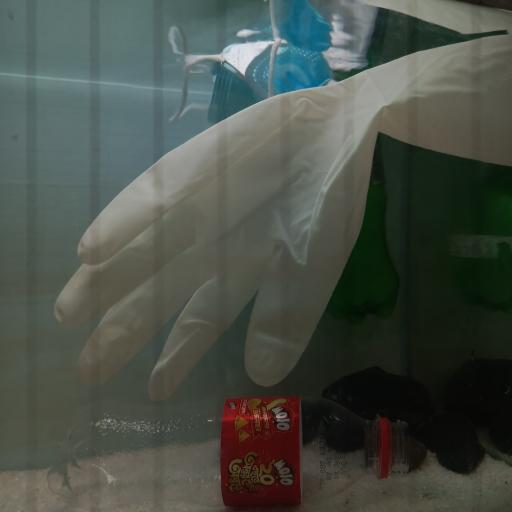glove: (54, 35, 512, 400)
mask: (168, 43, 333, 124)
plastic_bottle: (45, 398, 407, 512), (325, 134, 402, 326)
